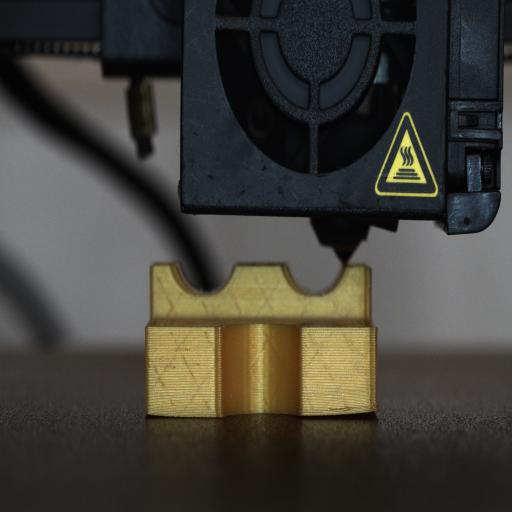warp: (333, 395, 381, 423)
